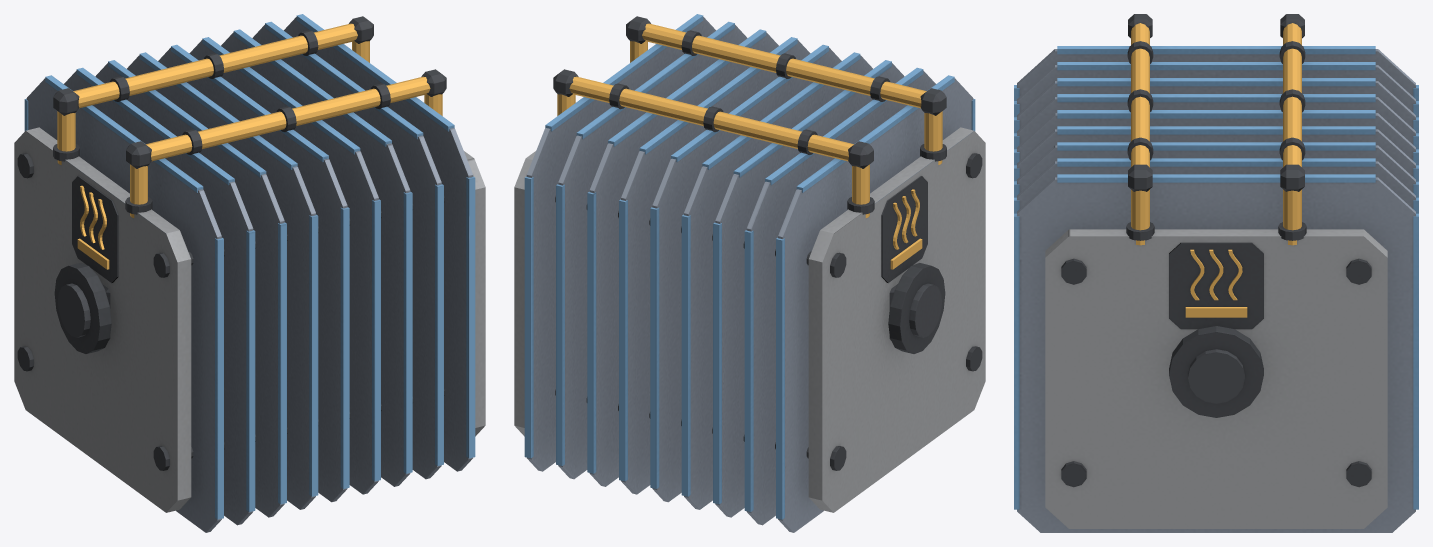
The model's file is SM_Radiator.fbx.
The picture shows the model from 3 angles, left to right: view 1: azimuth 30°, elevation 25°; view 2: azimuth 150°, elevation 25°; view 3: azimuth 270°, elevation 25°; orthographic projection. The views are drawn at different scales.
Visible parts, largest first — view 1: SMN_Radiator, Emblem_RadiatorHeat; view 2: SMN_Radiator, Emblem_RadiatorHeat; view 3: SMN_Radiator, Emblem_RadiatorHeat.
Part boxes in pixels (<box>): SMN_Radiator: <box>14,14,485,532</box>; Emblem_RadiatorHeat: <box>57,23,442,269</box>; SMN_Radiator: <box>514,14,985,532</box>; Emblem_RadiatorHeat: <box>557,23,942,269</box>; SMN_Radiator: <box>1014,14,1418,532</box>; Emblem_RadiatorHeat: <box>1131,23,1301,317</box>.
Bounding box in the file's own units: 0.91 × 0.873 × 0.852.
